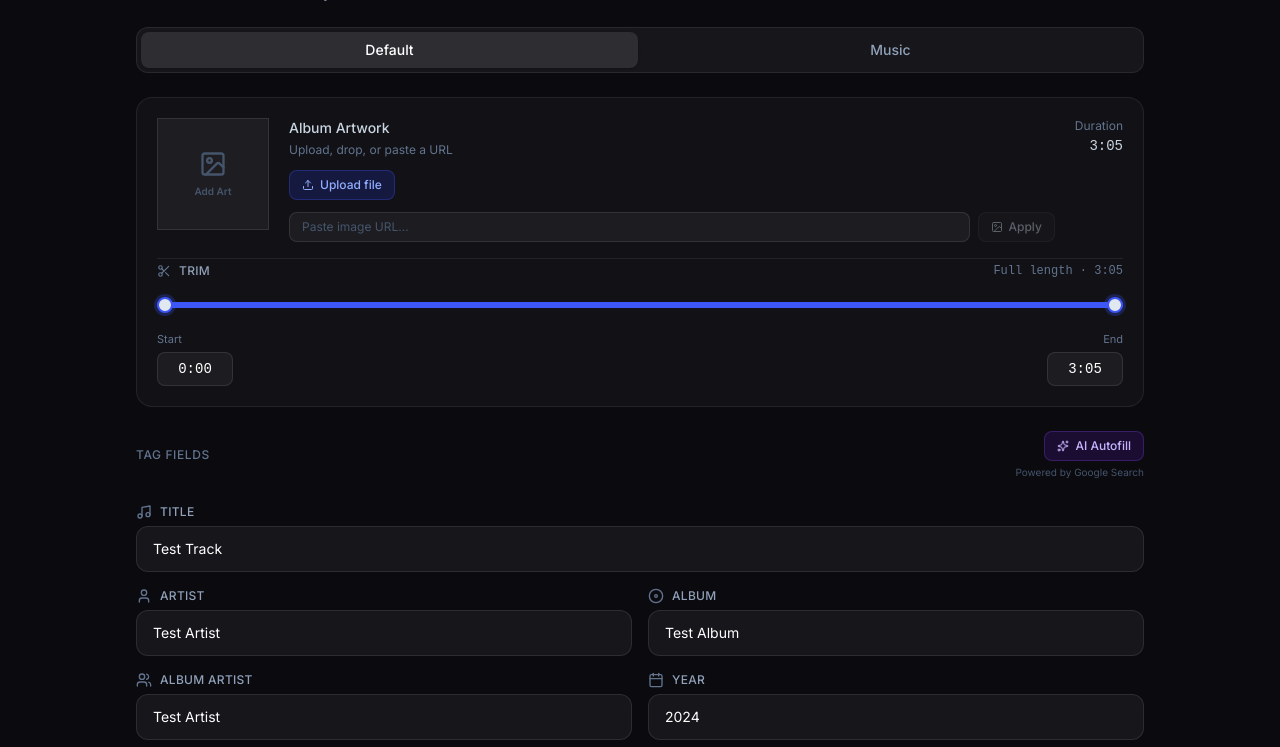
it: TagEditor field editing › updates the filename preview when title changes
Replace the text in the field showing "Test Track" below "Title" with "New Title" at point(640, 548), box [136, 526, 1144, 572]
(page scrolled)
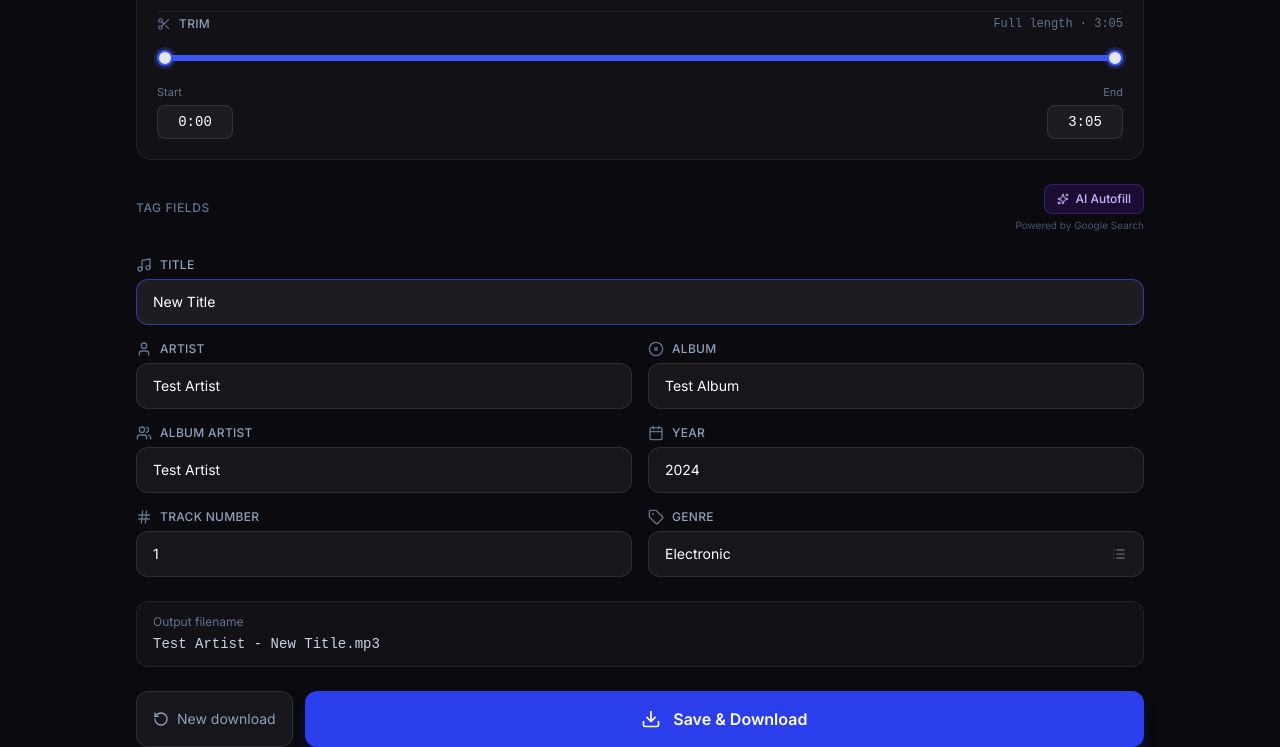
Expected: the text "Test Artist - New Title.mp3" is shown, [153, 636, 380, 652]
